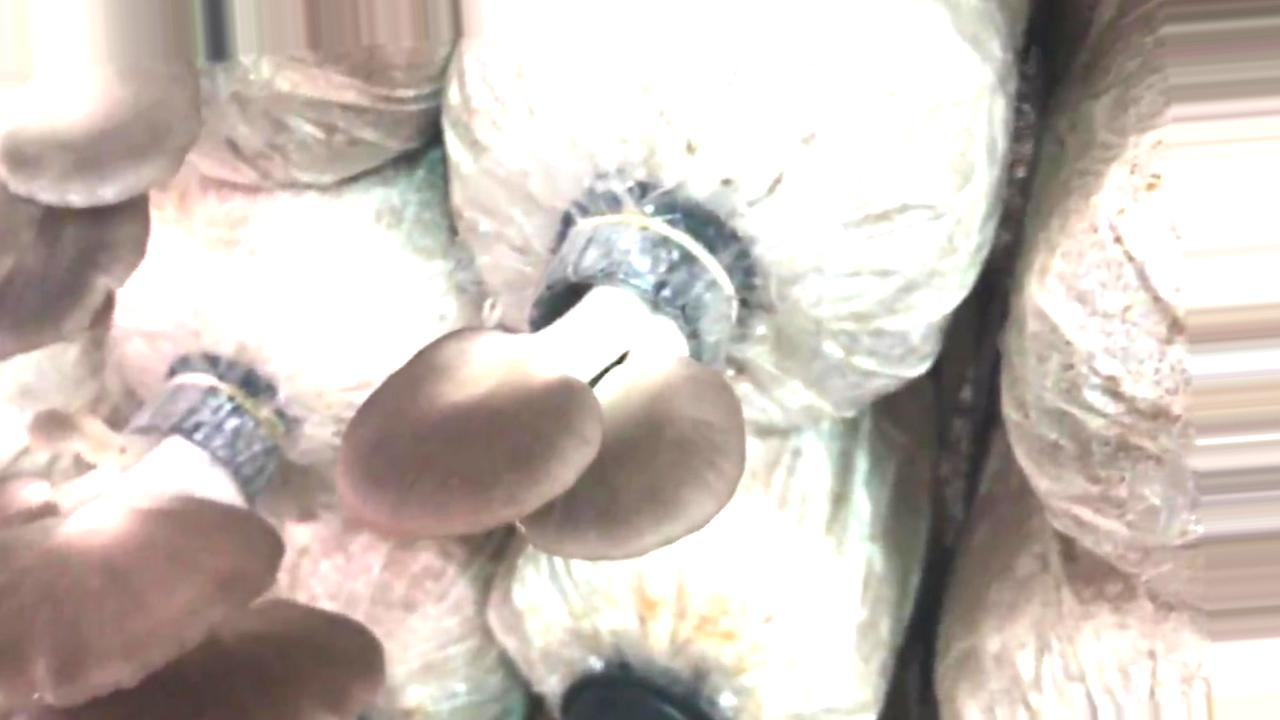nam: (335, 214, 756, 562), (1, 377, 388, 720), (1, 1, 198, 364)
